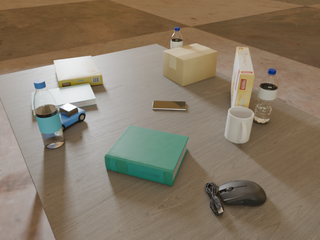book: (105, 125, 189, 186), (32, 83, 96, 115)
bottle: (33, 79, 65, 149), (254, 69, 278, 124), (171, 27, 183, 49)
box: (163, 44, 218, 86), (54, 56, 103, 88), (231, 47, 254, 108)
cup: (225, 107, 254, 143)
mouse: (205, 180, 266, 215)
phone: (152, 101, 186, 110)
toy_car: (60, 103, 86, 132)
